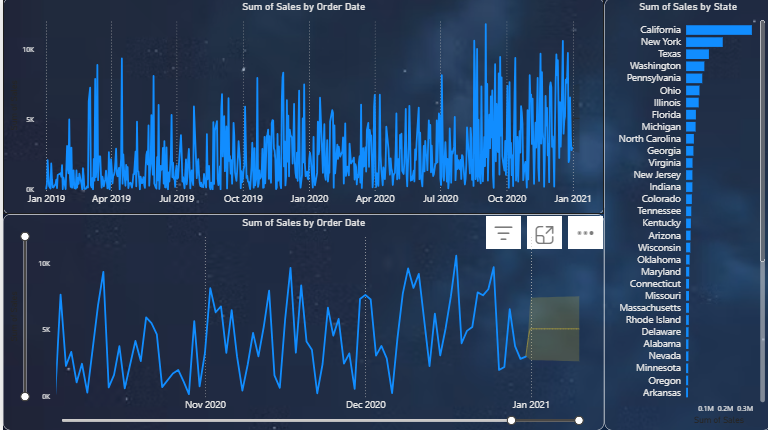

The page's visual inventory and layout, read from the dashboard file:
{"tool":"powerbi","page":{"name":"Page 2","canvas":[1280,720],"ordinal":1},"visuals":[{"type":"lineChart","fields":{"Y":["Sum(Sheet1.Sales)"],"Category":["Sheet1.Order Date"]},"box":[0,0,1001.7,360.3],"z":0},{"type":"lineChart","fields":{"Y":["Sum(Sheet1.Sales)"],"Category":["Sheet1.Order Date"]},"box":[0,360.3,1001.7,360.3],"z":1000},{"type":"clusteredBarChart","fields":{"Category":["Sheet1.State"],"Y":["Sum(Sheet1.Sales)"]},"box":[1001.7,0,277.6,720.7],"z":2000}]}

Visuals, with their boxes in screenshot pixels (x1, y1, x2, y2), scaled from the page's 1280x720 canvas onto the 768x430 screenshot:
lineChart - Sum(Sheet1.Sales) x Sheet1.Order Date: (0, 0, 601, 215)
lineChart - Sum(Sheet1.Sales) x Sheet1.Order Date: (0, 215, 601, 429)
clusteredBarChart - Sheet1.State x Sum(Sheet1.Sales): (601, 0, 767, 429)
